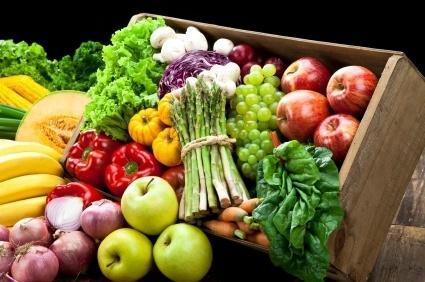apple: (120, 175, 180, 234), (274, 90, 337, 146), (153, 223, 213, 281), (97, 228, 152, 281), (325, 64, 378, 117), (313, 112, 360, 161), (280, 56, 331, 94)
